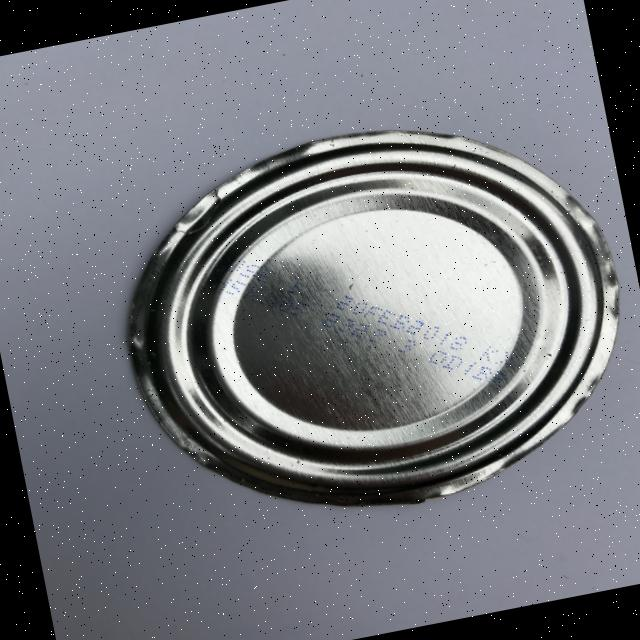metal: (95, 86, 640, 552)
